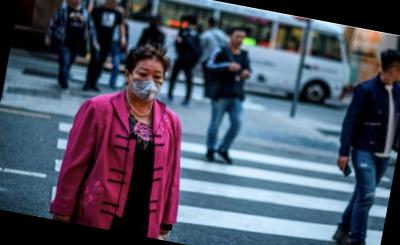with_mask: (128, 63, 166, 105)
without_mask: (232, 32, 246, 48), (396, 61, 400, 84)
